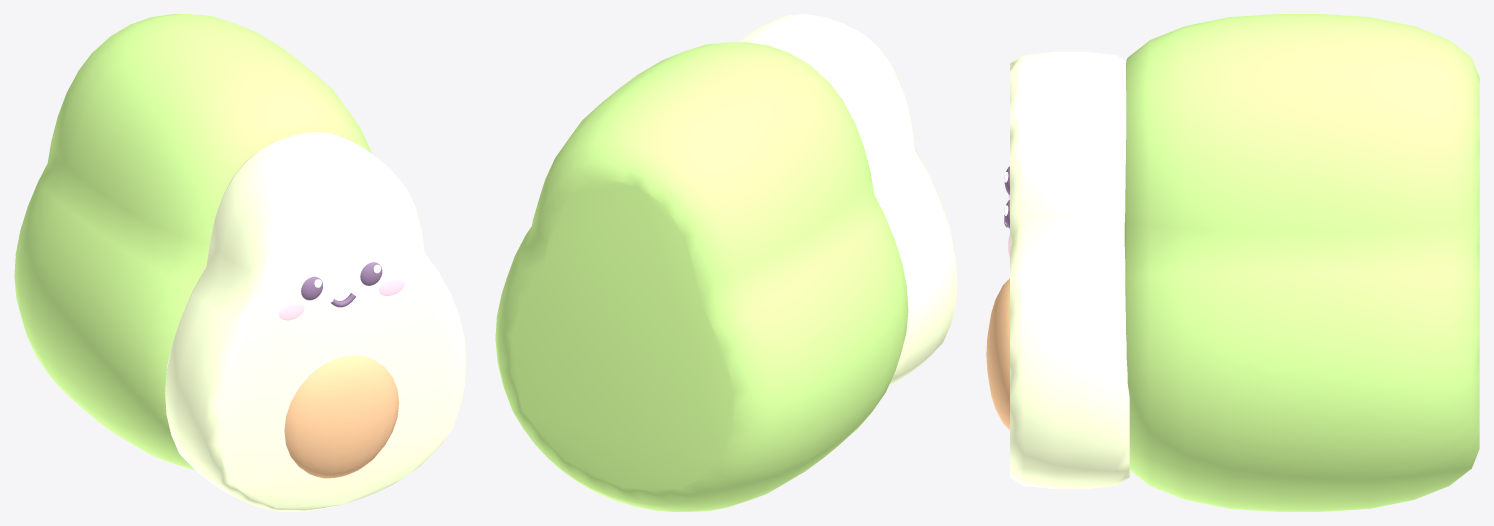
File: squishy_avocado.glb
3 views of the same model, side by side, from view 1: azimuth 30°, elevation 25°; view 2: azimuth 150°, elevation 25°; view 3: azimuth 270°, elevation 25° (orthographic). The views are drawn at different scales.
Parts seen in each view (by area): view 1: avocado; view 2: avocado; view 3: avocado.
Boxes of the visible parts, x1,y1,x2,y2 form: avocado: (14,14,466,511); avocado: (495,14,957,511); avocado: (986,14,1479,511).
Bounding box in the file's own units: 0.8256 × 1 × 0.9725.
